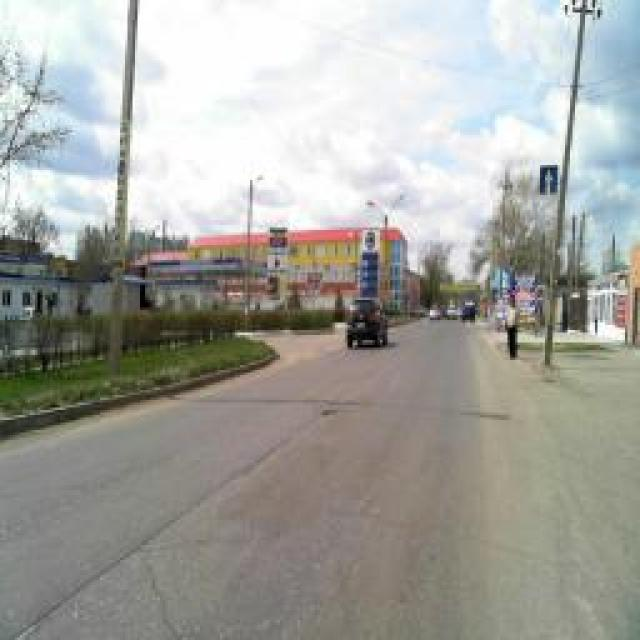sign: (540, 162, 560, 198)
